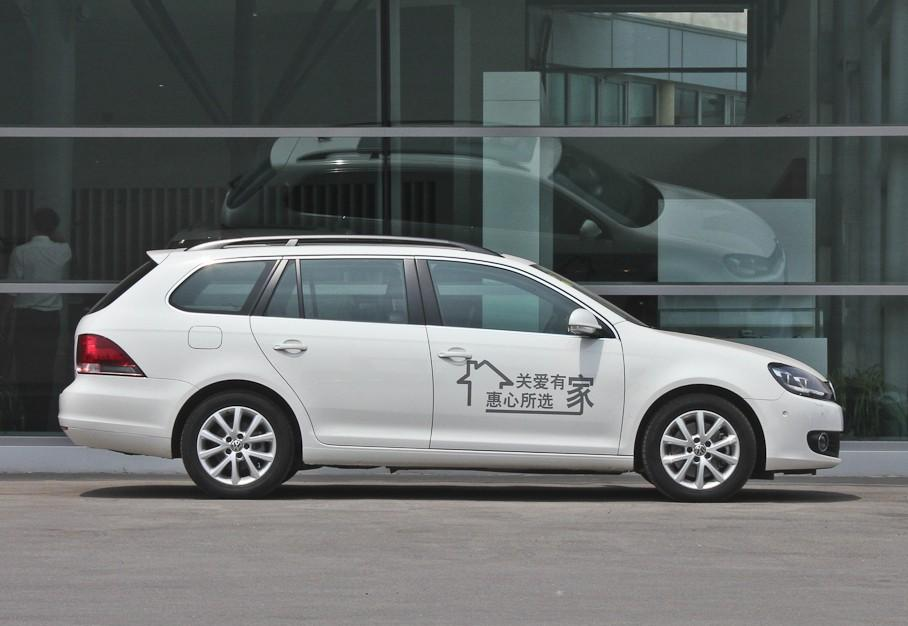Wagon: (55, 232, 846, 504)
